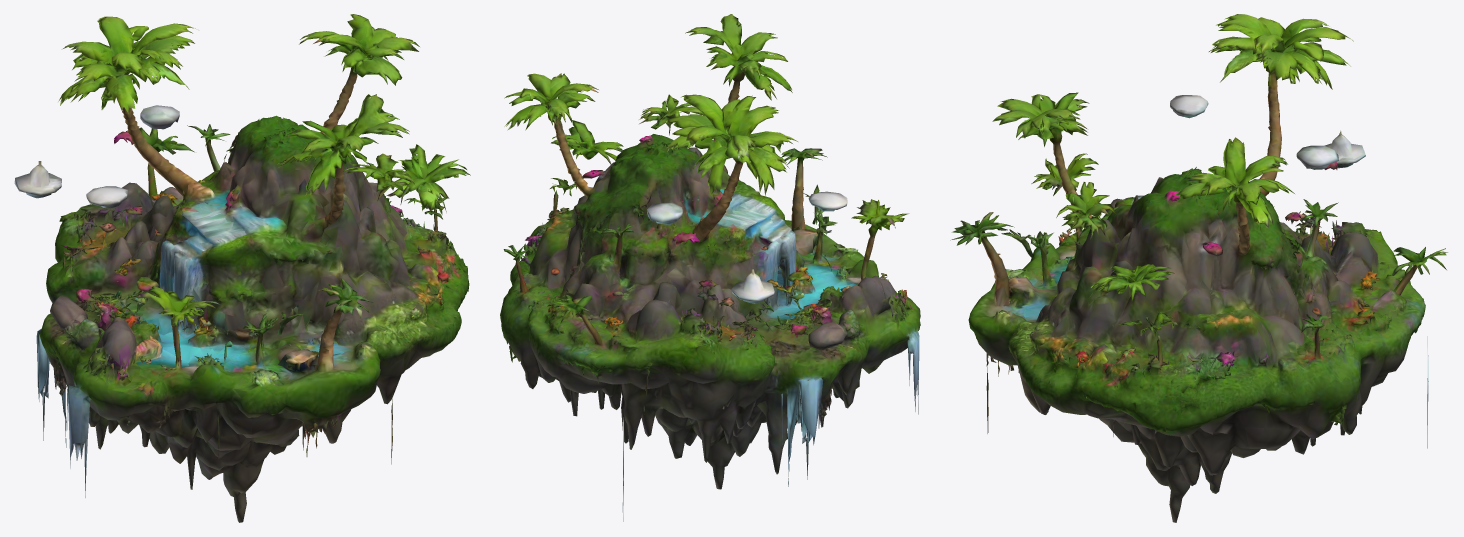
Rendered from _garden_floating_ga.glb.
3 renders of one model, left to right at view 1: azimuth 30°, elevation 25°; view 2: azimuth 150°, elevation 25°; view 3: azimuth 270°, elevation 25°, orthographic. The views are drawn at different scales.
Parts seen in each view (by area): view 1: _garden_floating_ga; view 2: _garden_floating_ga; view 3: _garden_floating_ga.
Part boxes in pixels (left/top/right/bottom): _garden_floating_ga: left=14, top=14, right=470, bottom=522; _garden_floating_ga: left=500, top=14, right=920, bottom=521; _garden_floating_ga: left=950, top=14, right=1447, bottom=522.
Size of the model in its own units: 1.8 by 1.99 by 1.91.
1 material, 1 textured.
